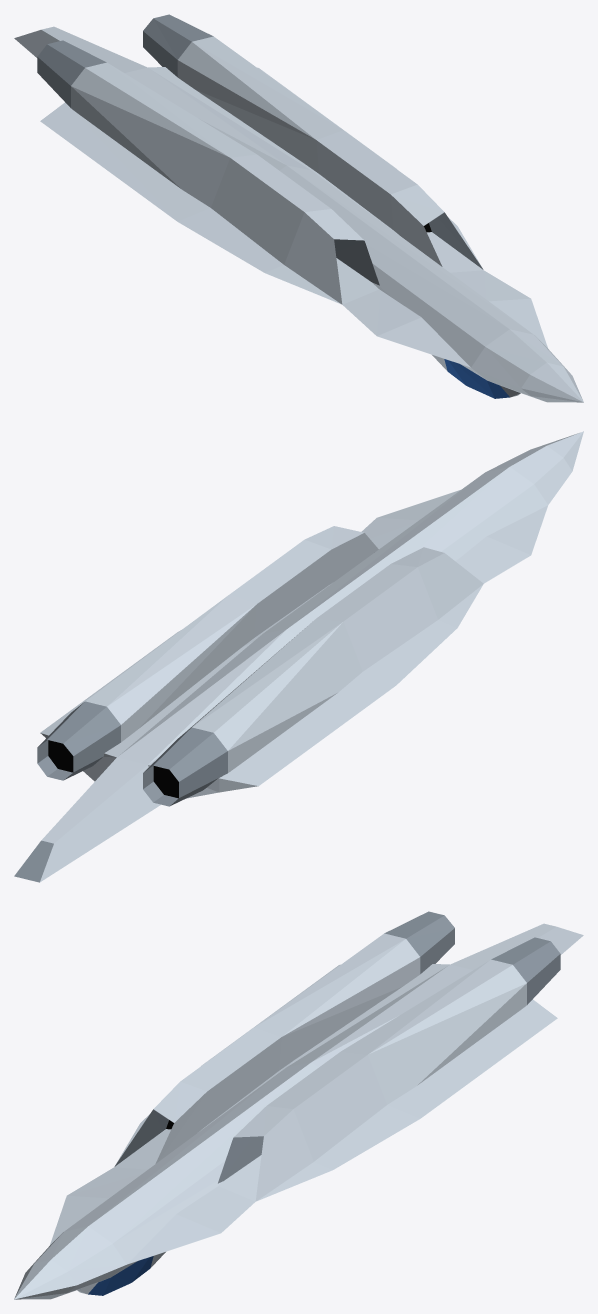
Rendered from Body.FBX.
The picture shows the model from 3 angles, top to bottom: view 1: azimuth 30°, elevation 25°; view 2: azimuth 150°, elevation 25°; view 3: azimuth 330°, elevation 25°; orthographic projection.
Parts seen in each view (by area): view 1: VIFS001, VIFS003, VIFS002; view 2: VIFS001, VIFS003, VIFS005; view 3: VIFS001, VIFS003, VIFS002.
Part boxes in pixels (x1,y1,x2,y2): VIFS001: (14,26,583,402); VIFS003: (37,14,483,285); VIFS002: (444,359,509,398); VIFS001: (40,431,583,882); VIFS003: (14,701,227,882); VIFS005: (48,740,178,798); VIFS001: (14,923,583,1299); VIFS003: (114,911,560,1183); VIFS002: (88,1256,153,1295).
Bounding box in the file's own units: 0.34 × 0.154 × 1.5.
